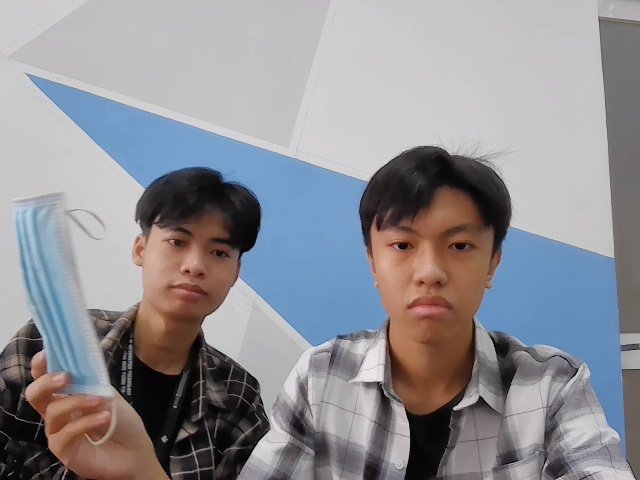human: (358, 143, 513, 349), (134, 167, 261, 325)
mask: (12, 191, 115, 402)
